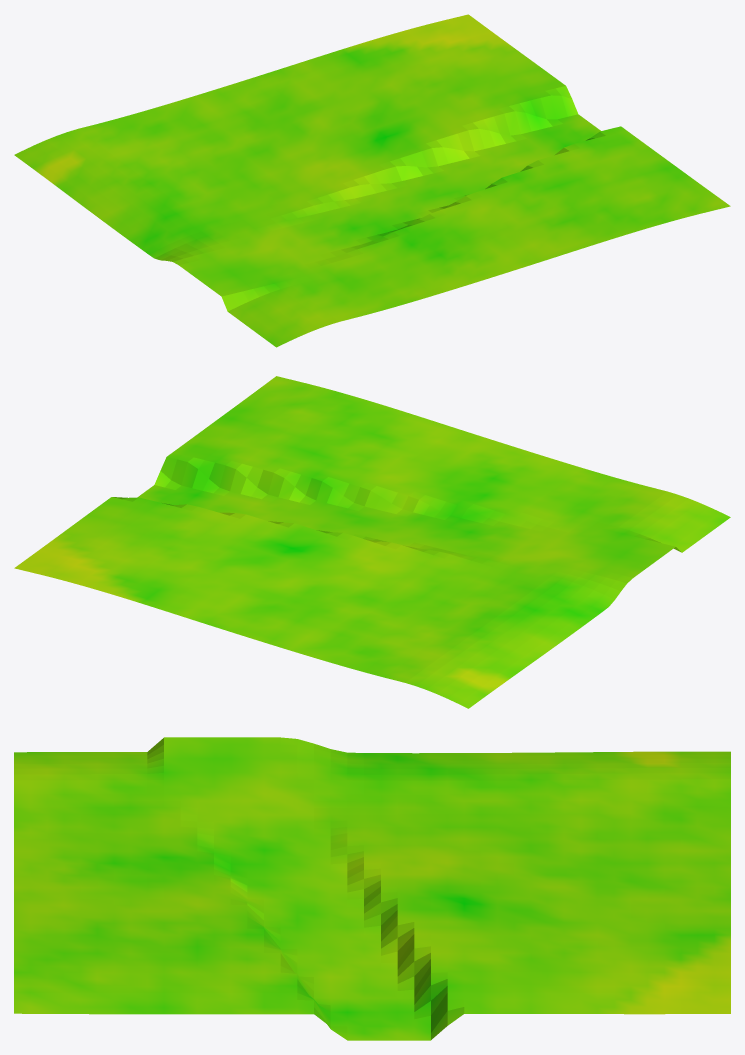
Rendered from terrain_3_2.glb.
3 views of the same model, one above another, from view 1: azimuth 30°, elevation 25°; view 2: azimuth 150°, elevation 25°; view 3: azimuth 270°, elevation 25° (orthographic). The views are drawn at different scales.
Visible parts, largest first — view 1: terrain_3_2.0, terrain_3_2.1; view 2: terrain_3_2.0, terrain_3_2.1; view 3: terrain_3_2.0, terrain_3_2.1.
Boxes of the visible parts, x1,y1,x2,y2 form: terrain_3_2.0: (14, 14, 730, 347); terrain_3_2.1: (396, 95, 577, 219); terrain_3_2.0: (14, 376, 730, 708); terrain_3_2.1: (154, 459, 429, 514); terrain_3_2.0: (14, 737, 730, 1040); terrain_3_2.1: (230, 878, 447, 1039).
Size of the model in its own units: 85 by 5.55 by 85.
